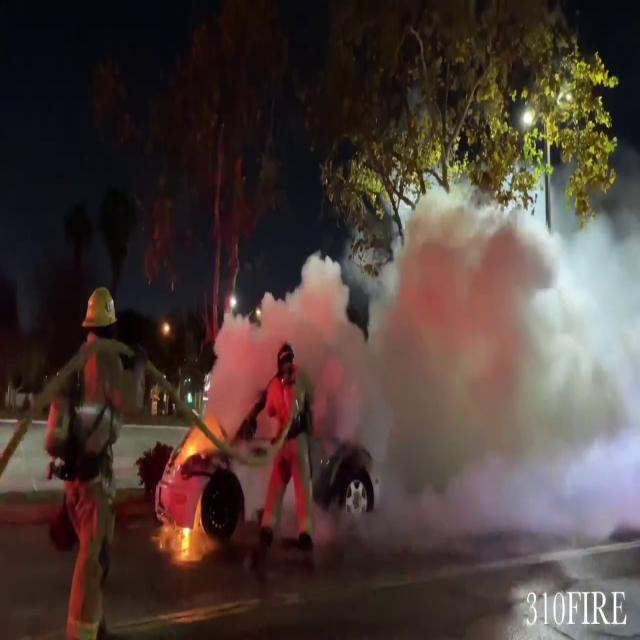Smoke: (304, 158, 640, 550)
